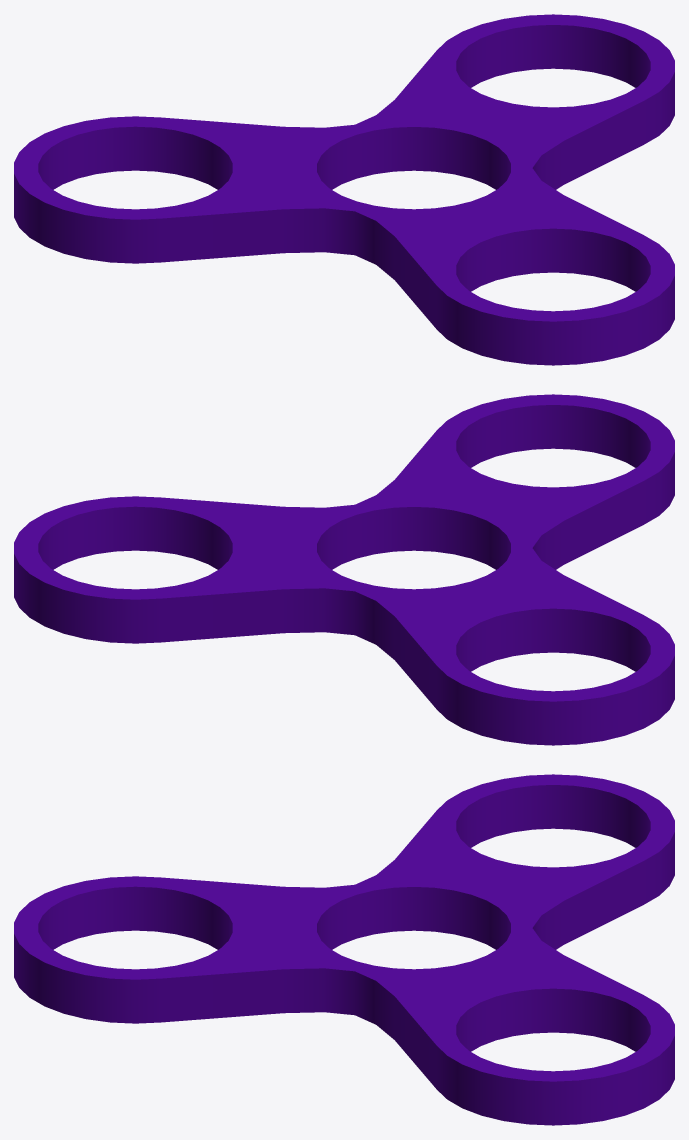
The model's file is spinner_3.FBX.
The picture shows the model from 3 angles, top to bottom: view 1: azimuth 30°, elevation 25°; view 2: azimuth 150°, elevation 25°; view 3: azimuth 270°, elevation 25°; orthographic projection.
Visible parts, largest first — view 1: spinner_3; view 2: spinner_3; view 3: spinner_3.
Part boxes in pixels (bbox=[...]): spinner_3: bbox=[14, 14, 674, 365]; spinner_3: bbox=[14, 394, 674, 745]; spinner_3: bbox=[14, 774, 674, 1125].
Bounding box in the file's own units: 0.0875 × 0.00583 × 0.0795.
